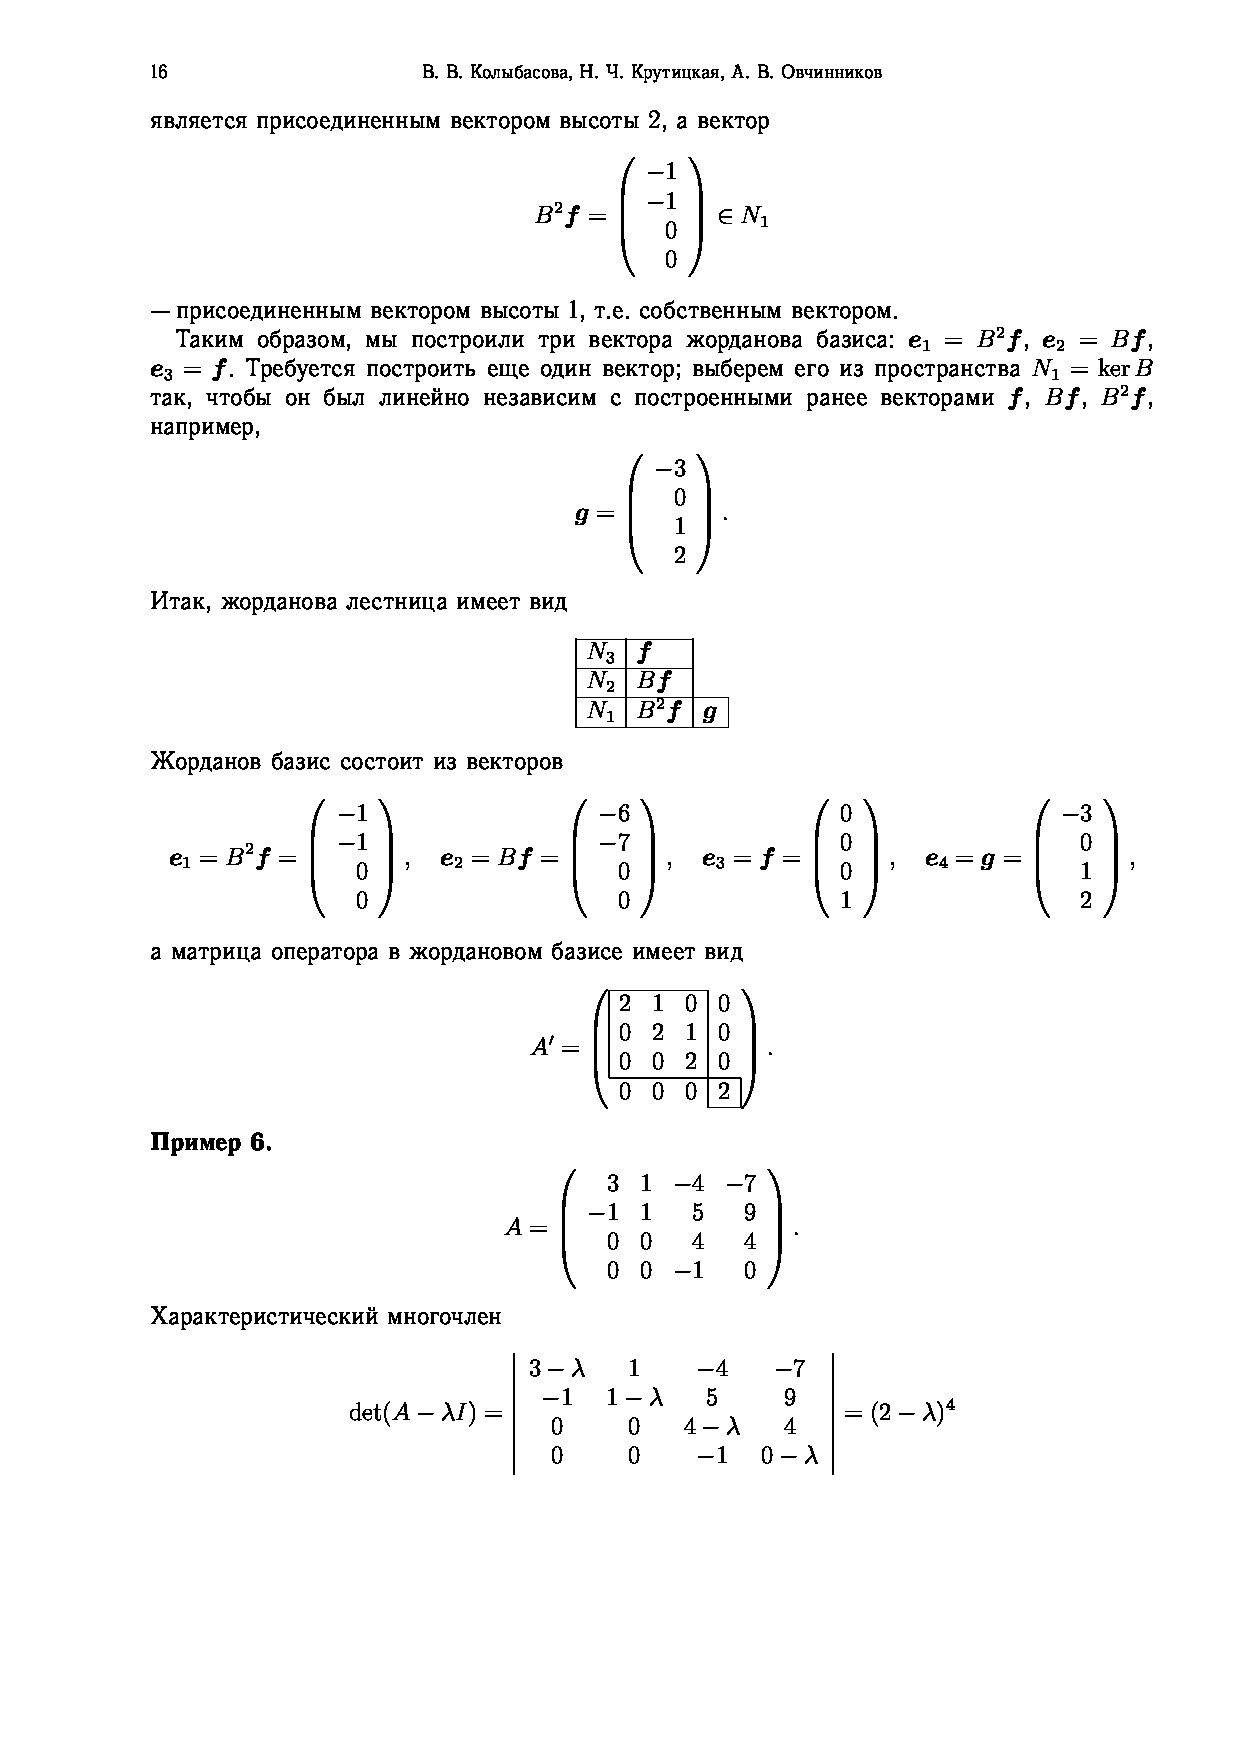lMatrix: (510, 1349, 841, 1487)
pMatrix: (560, 1166, 786, 1298), (590, 984, 757, 1115), (619, 149, 710, 295), (624, 454, 717, 582), (309, 794, 397, 929), (1033, 790, 1122, 925), (573, 796, 659, 926), (815, 793, 880, 926)
